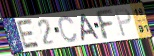2: (38, 18, 56, 46)
A: (79, 13, 101, 42)
C: (58, 15, 79, 44)
E: (16, 18, 42, 50)
F: (93, 9, 115, 41)
P: (113, 7, 133, 38)
